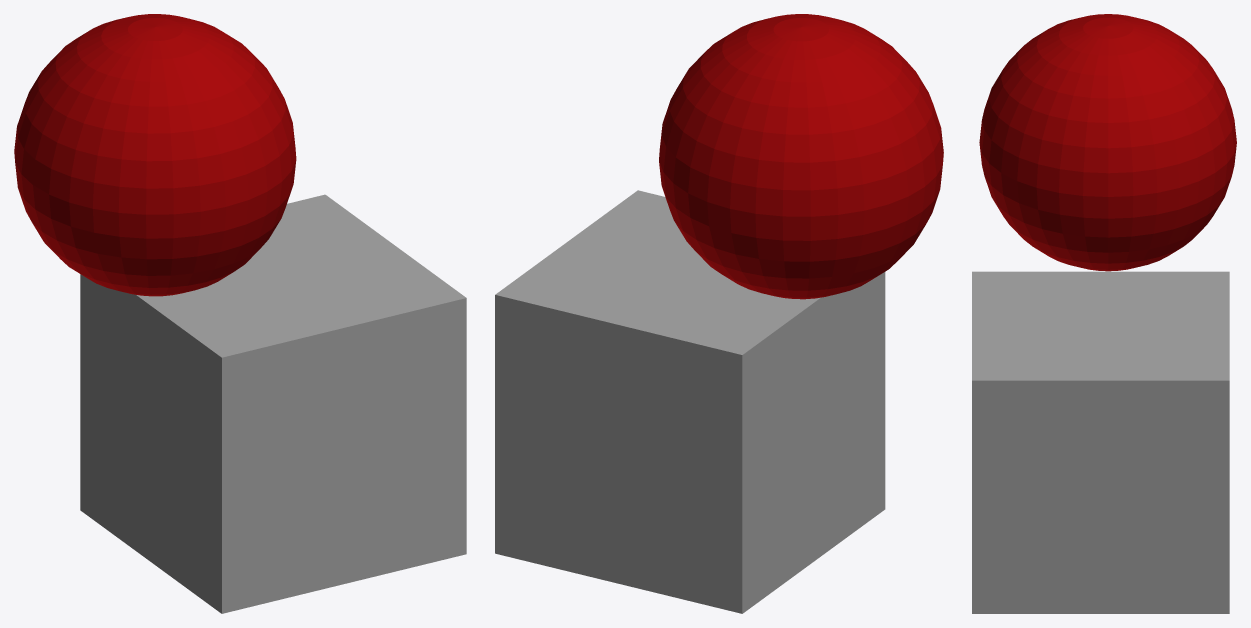
The model's file is cube&shpere3.obj.
3 renders of one model, left to right at view 1: azimuth 30°, elevation 25°; view 2: azimuth 150°, elevation 25°; view 3: azimuth 270°, elevation 25°, orthographic. The views are drawn at different scales.
Parts seen in each view (by area): view 1: Cube, Sphere; view 2: Cube, Sphere; view 3: Cube, Sphere.
Part boxes in pixels (bbox=[...]): Cube: bbox=[80, 194, 466, 613]; Sphere: bbox=[14, 14, 296, 296]; Cube: bbox=[495, 190, 885, 613]; Sphere: bbox=[659, 14, 943, 299]; Cube: bbox=[972, 271, 1229, 613]; Sphere: bbox=[979, 14, 1236, 271].
Bounding box in the file's own units: 2.93 × 4.14 × 2.06.
